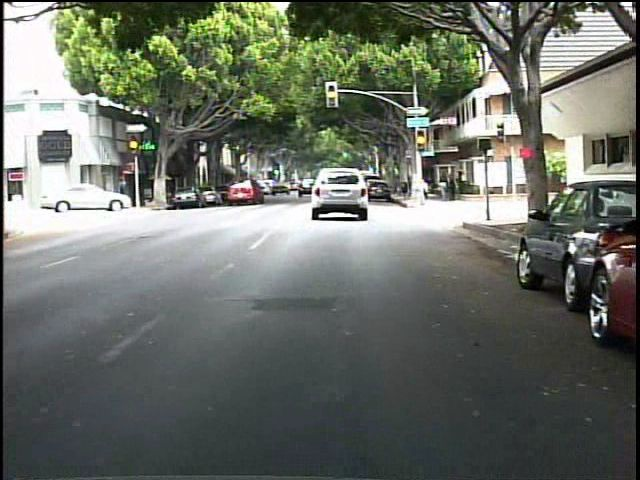person: (410, 171, 432, 210), (446, 168, 459, 204), (437, 170, 451, 202), (454, 164, 468, 196)
